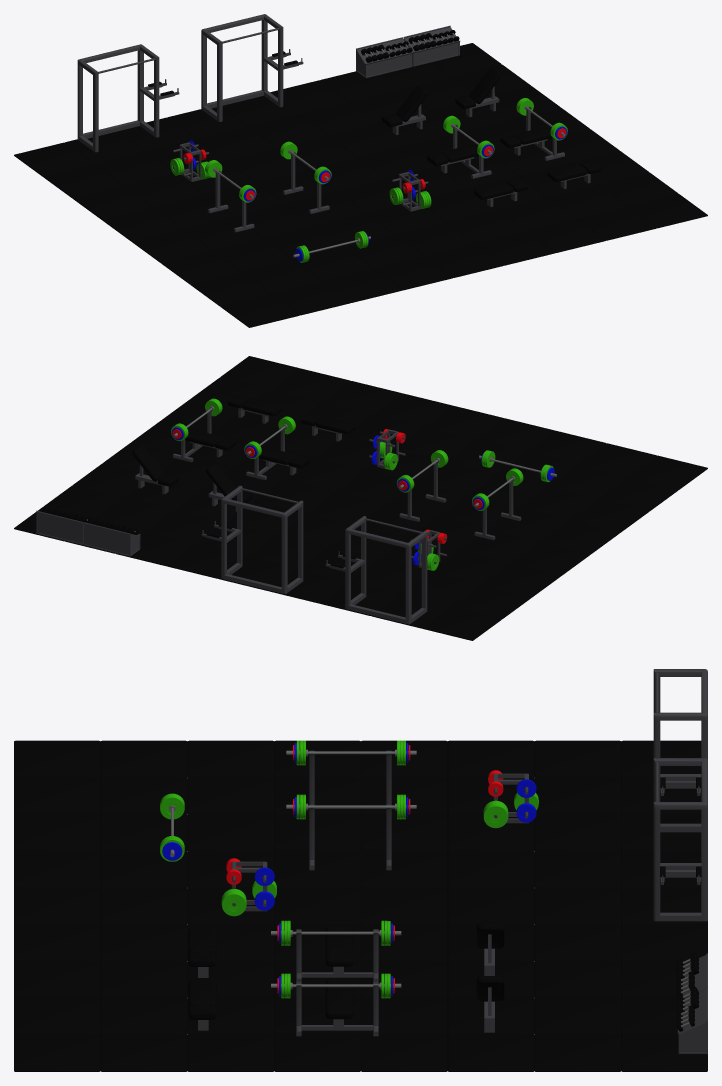
File: SporAletleri.fbx
The picture shows the model from 3 angles, top to bottom: view 1: azimuth 30°, elevation 25°; view 2: azimuth 150°, elevation 25°; view 3: azimuth 270°, elevation 25°; orthographic projection. The views are drawn at different scales.
Visible parts, largest first — view 1: Stand.001; view 2: Stand.001; view 3: Stand.001.
Part boxes in pixels (<box>): Stand.001: <box>14,14,707,327</box>; Stand.001: <box>14,356,707,640</box>; Stand.001: <box>14,669,707,1071</box>.
Size of the model in its own units: 1800 by 304 by 1600.
